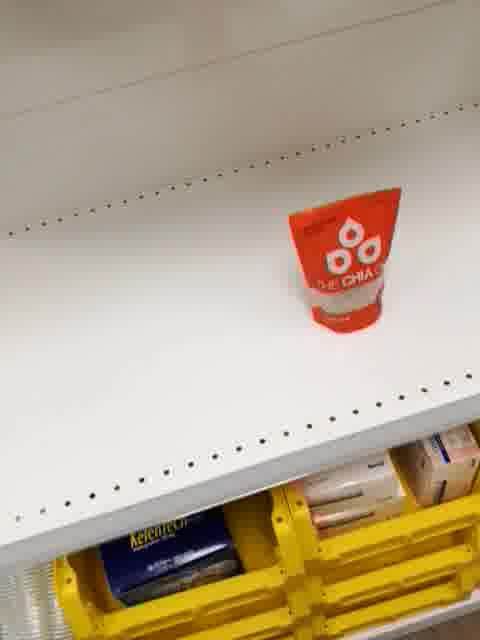whitechia: (287, 185, 406, 337)
